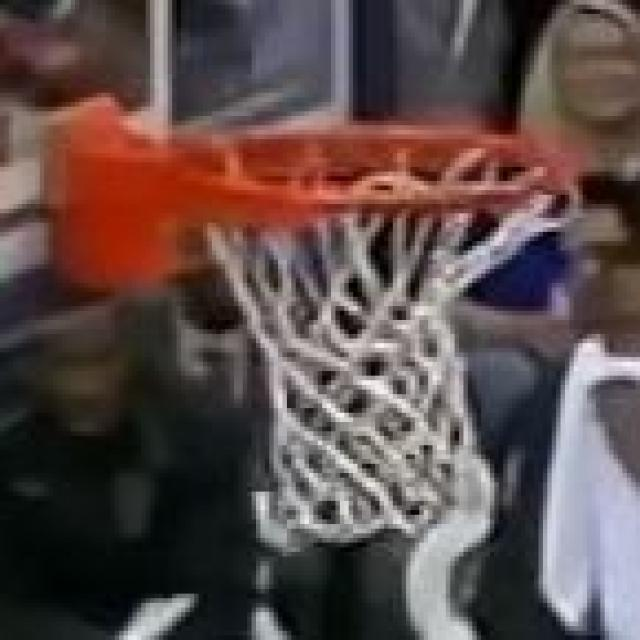hoop: (134, 104, 595, 553)
